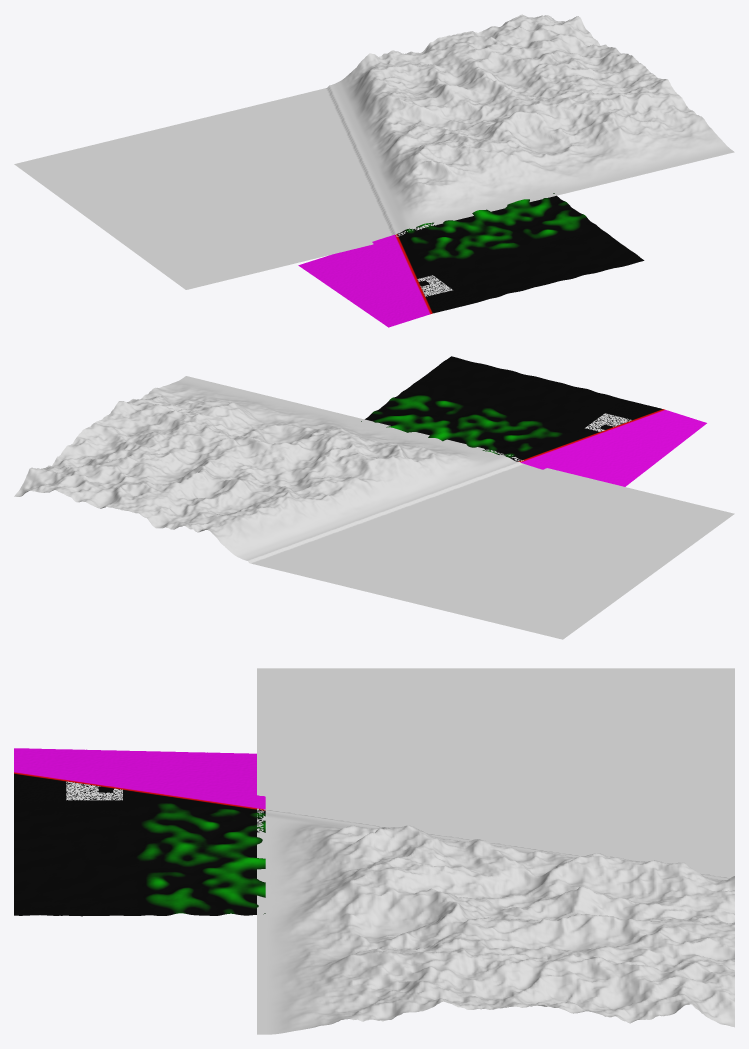
File: landscape.glb
3 renders of one model, top to bottom at view 1: azimuth 30°, elevation 25°; view 2: azimuth 150°, elevation 25°; view 3: azimuth 270°, elevation 25°, orthographic. The views are drawn at different scales.
Visible parts, largest first — view 1: Mountains, Ground; view 2: Mountains, Ground; view 3: Mountains, Ground, Ground grass (scatter only).
Part boxes in pixels (x1,y1,x2,y2): Mountains: [14, 14, 734, 289]; Ground: [298, 193, 644, 327]; Mountains: [14, 376, 734, 639]; Ground: [361, 356, 706, 486]; Mountains: [257, 668, 734, 1034]; Ground: [14, 748, 265, 916]; Ground grass (scatter only): [66, 781, 122, 800].
Size of the model in its own units: 2100 by 123 by 1720.
